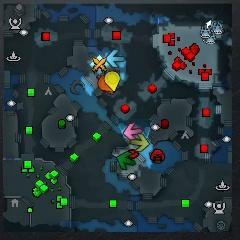Other: (90, 55, 109, 74)
p4: (105, 71, 120, 92)
p5: (99, 76, 113, 92)
x1: (124, 123, 143, 140)
x2: (130, 133, 149, 151)
x3: (107, 49, 125, 68)
x4: (116, 152, 135, 170)
